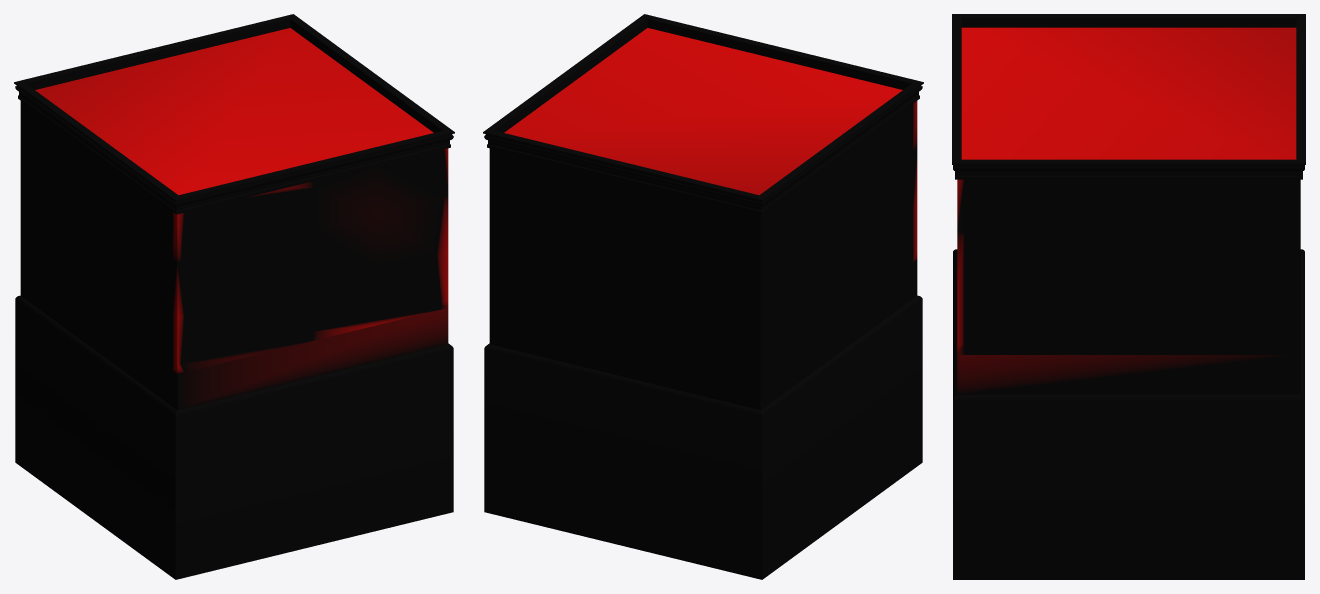
The model's file is House4.fbx.
The picture shows the model from 3 angles, left to right: view 1: azimuth 30°, elevation 25°; view 2: azimuth 150°, elevation 25°; view 3: azimuth 270°, elevation 25°; orthographic projection. The views are drawn at different scales.
Visible parts, largest first — view 1: House4; view 2: House4; view 3: House4.
Part boxes in pixels (<box>): House4: <box>14,14,454,579</box>; House4: <box>483,14,923,579</box>; House4: <box>952,14,1305,579</box>.
Size of the model in its own units: 824 by 1071 by 824.
